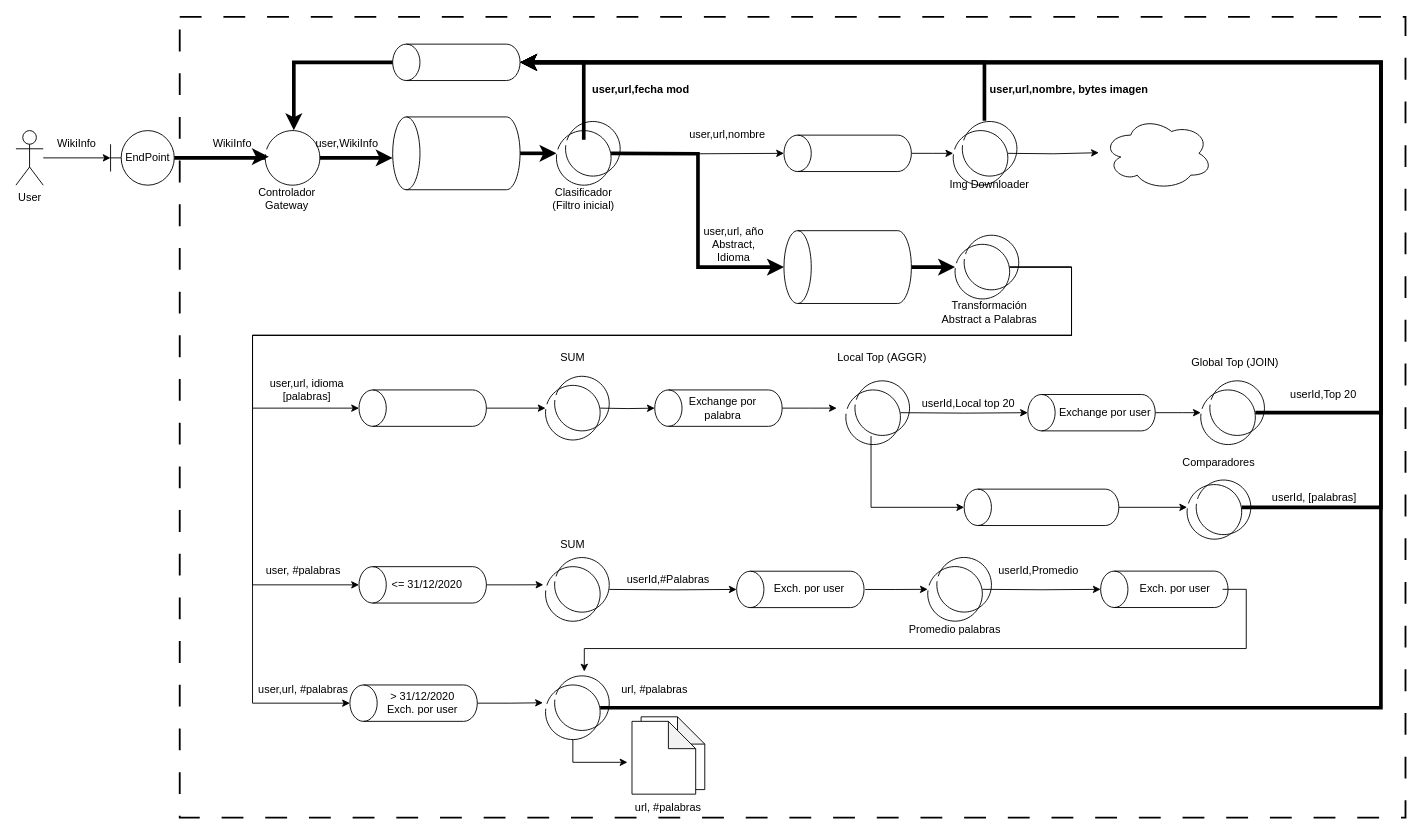
Image size: 1422x837. Some labels were removed from this diagram. Each missing label, with the box of its shape:
Entrada datos: (392, 116, 520, 190)
Exchange por hash de palabra: (963, 488, 1119, 526)
Respuestas: (392, 43, 520, 81)
userId: (631, 720, 696, 794)
